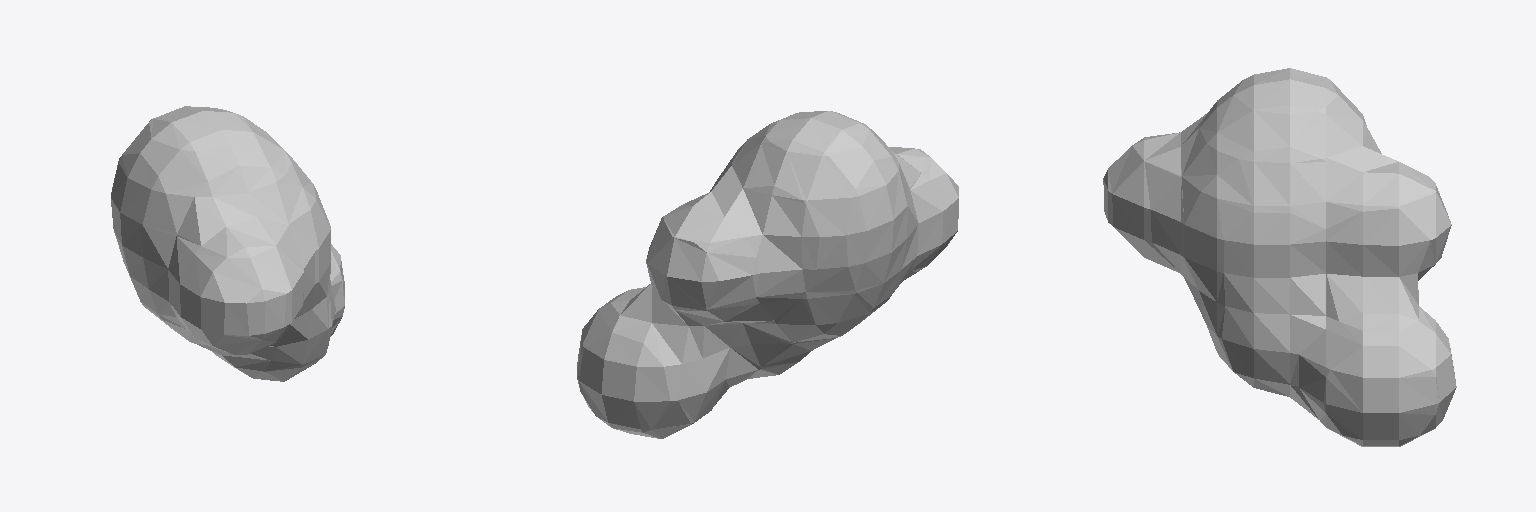
File: boom_part.obj
3 views of the same model, side by side, from view 1: azimuth 30°, elevation 25°; view 2: azimuth 150°, elevation 25°; view 3: azimuth 270°, elevation 25° (orthographic).
Parts seen in each view (by area): view 1: Mball.006; view 2: Mball.006; view 3: Mball.006.
Boxes of the visible parts, x1,y1,x2,y2 form: Mball.006: [111, 106, 344, 381]; Mball.006: [577, 111, 958, 438]; Mball.006: [1103, 68, 1456, 446].
Size of the model in its own units: 3.32 by 3.72 by 3.88.